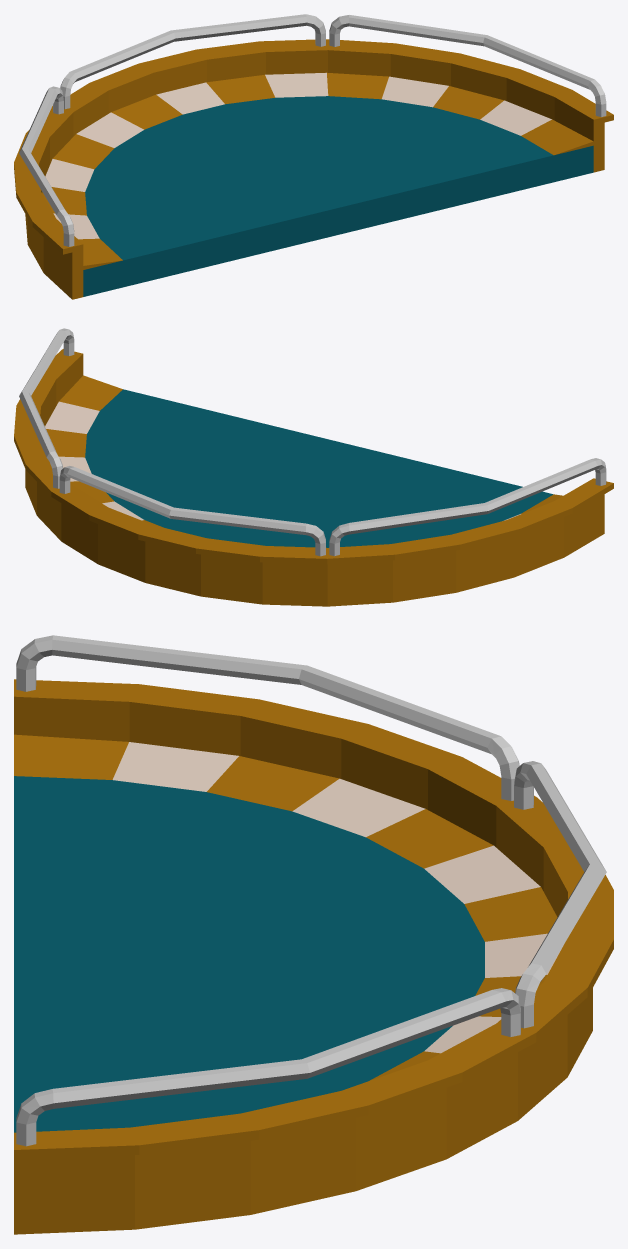
Rendered from cap_start.FBX.
3 views of the same model, one above another, from view 1: azimuth 30°, elevation 25°; view 2: azimuth 150°, elevation 25°; view 3: azimuth 270°, elevation 25° (orthographic). The views are drawn at different scales.
Parts seen in each view (by area): view 1: cap_start, wall, curbs; view 2: wall, cap_start, curbs; view 3: wall, cap_start, curbs.
Part boxes in pixels (bbox=[...]): cap_start: bbox=[41, 96, 593, 296]; wall: bbox=[14, 14, 613, 299]; curbs: bbox=[42, 72, 593, 269]; wall: bbox=[14, 328, 613, 606]; cap_start: bbox=[85, 389, 553, 547]; curbs: bbox=[45, 375, 562, 527]; wall: bbox=[14, 635, 613, 1234]; cap_start: bbox=[14, 776, 484, 1132]; curbs: bbox=[14, 734, 562, 1080].
Size of what is drawn, in the model's own units: 207 by 29.31 by 112.
